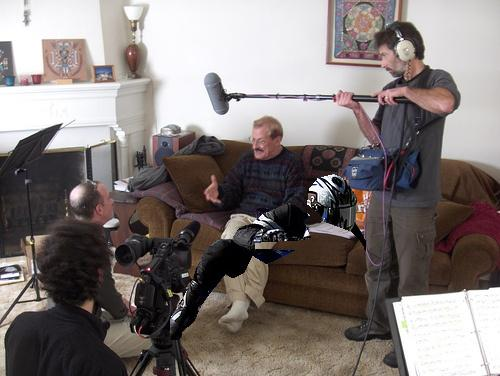tampered: (171, 175, 366, 340)
